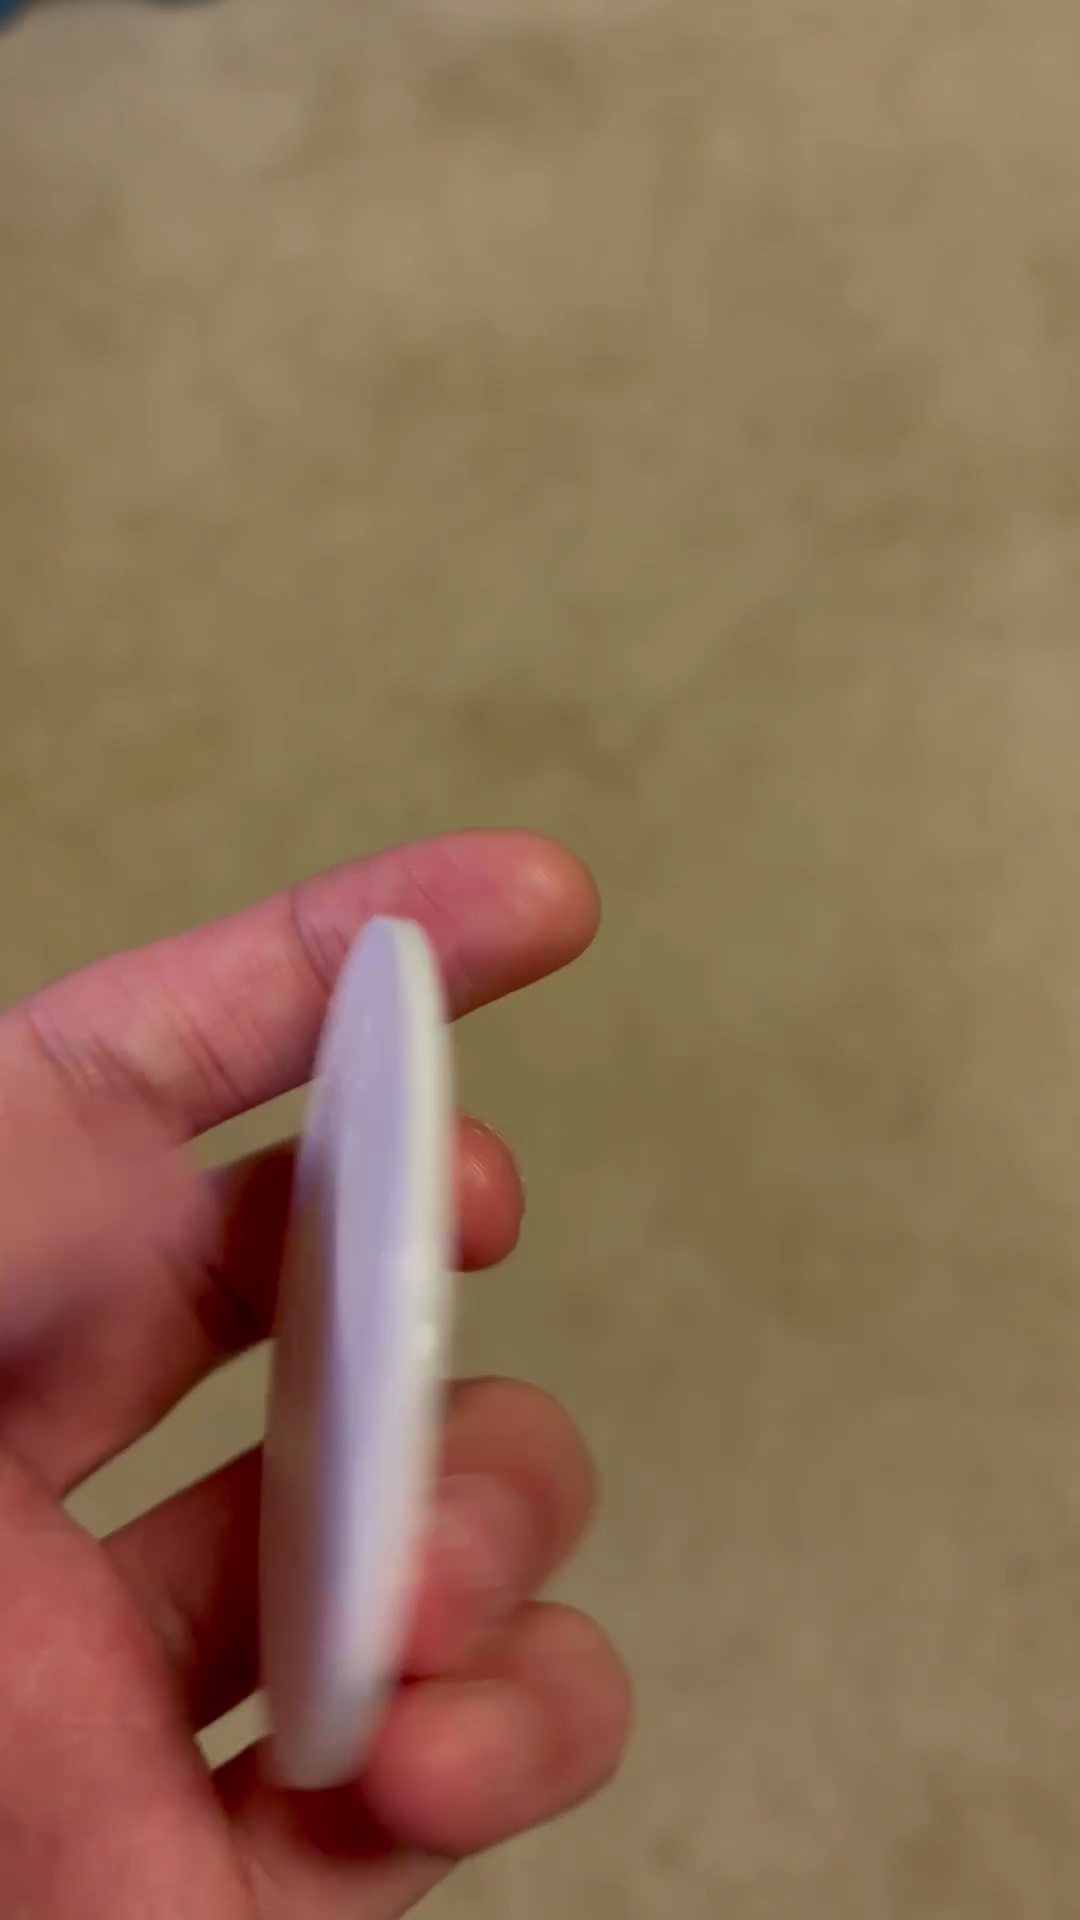Part1: (260, 918, 454, 1789)
